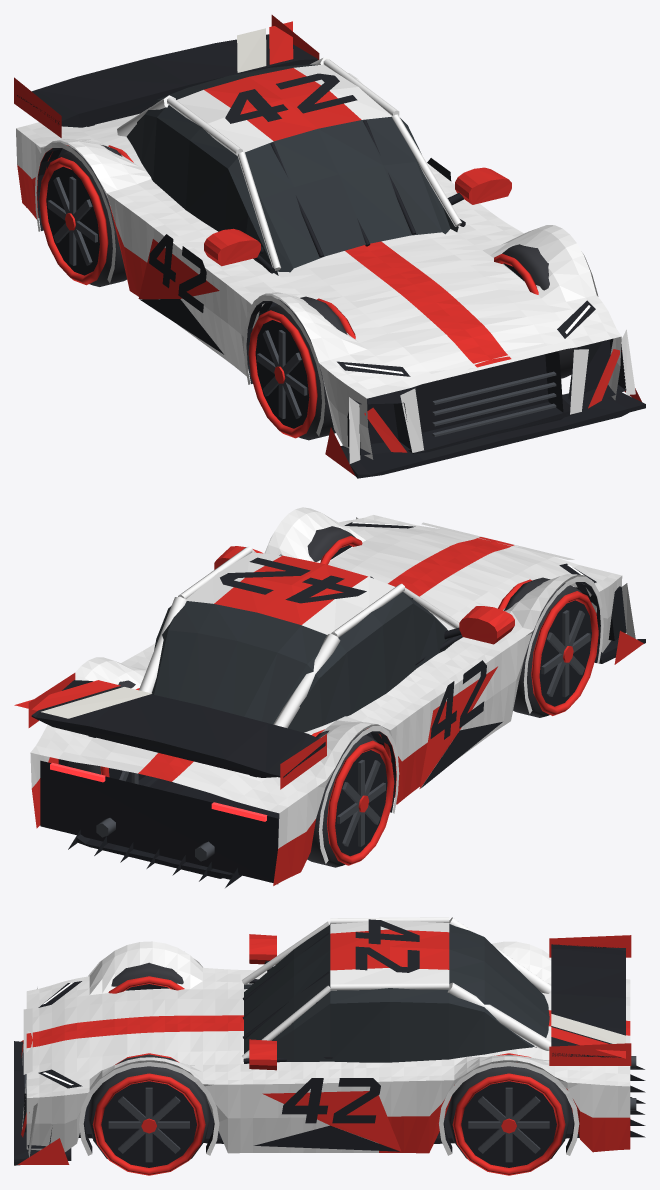
File: stock.glb
The picture shows the model from 3 angles, top to bottom: view 1: azimuth 30°, elevation 25°; view 2: azimuth 150°, elevation 25°; view 3: azimuth 270°, elevation 25°; orthographic projection. The views are drawn at different scales.
Parts seen in each view (by area): view 1: white:2, black:2, glass:2, red:2, metal:0 (×3), black:0 (×3), red:0 (×2), rubber:0 (×3), white:0, whiteAccent:2; view 2: white:2, black:2, glass:2, red:2, red:0 (×2), black:0 (×2), metal:0 (×3), rubber:0 (×3), white:0, whiteAccent:2, tail:0; view 3: white:2, glass:2, red:2, black:2, black:0 (×3), red:0 (×3), rubber:0 (×3), white:0, metal:0 (×2), whiteAccent:2.
Part boxes in pixels (x1=…): white:2: x1=16, y1=64, x2=635, y2=463; black:2: x1=17, y1=34, x2=645, y2=478; glass:2: x1=126, y1=64, x2=458, y2=275; red:2: x1=14, y1=15, x2=641, y2=475; metal:0 (×3): x1=47, y1=176, x2=556, y2=436; black:0 (×3): x1=46, y1=120, x2=465, y2=428; red:0 (×2): x1=39, y1=145, x2=355, y2=438; rubber:0 (×3): x1=56, y1=145, x2=579, y2=440; white:0: x1=117, y1=57, x2=461, y2=270; whiteAccent:2: x1=237, y1=28, x2=266, y2=72; white:2: x1=30, y1=507, x2=635, y2=863; black:2: x1=31, y1=522, x2=645, y2=887; glass:2: x1=151, y1=592, x2=453, y2=732; red:2: x1=14, y1=537, x2=643, y2=885; red:0 (×2): x1=311, y1=579, x2=598, y2=865; black:0 (×2): x1=335, y1=600, x2=591, y2=856; metal:0 (×3): x1=96, y1=610, x2=590, y2=861; rubber:0 (×3): x1=307, y1=526, x2=581, y2=867; white:0: x1=139, y1=546, x2=459, y2=728; whiteAccent:2: x1=41, y1=687, x2=151, y2=718; tail:0: x1=50, y1=762, x2=267, y2=821; white:2: x1=22, y1=920, x2=630, y2=1157; glass:2: x1=244, y1=924, x2=549, y2=1063; red:2: x1=17, y1=929, x2=631, y2=1164; black:2: x1=14, y1=919, x2=645, y2=1165; black:0 (×3): x1=101, y1=932, x2=556, y2=1167; red:0 (×3): x1=92, y1=976, x2=565, y2=1175; rubber:0 (×3): x1=88, y1=962, x2=569, y2=1159; white:0: x1=242, y1=917, x2=551, y2=1058; metal:0 (×2): x1=108, y1=1087, x2=549, y2=1162; whiteAccent:2: x1=551, y1=1014, x2=625, y2=1043.
Bounding box in the file's own units: 2.74 × 1.81 × 5.94.
